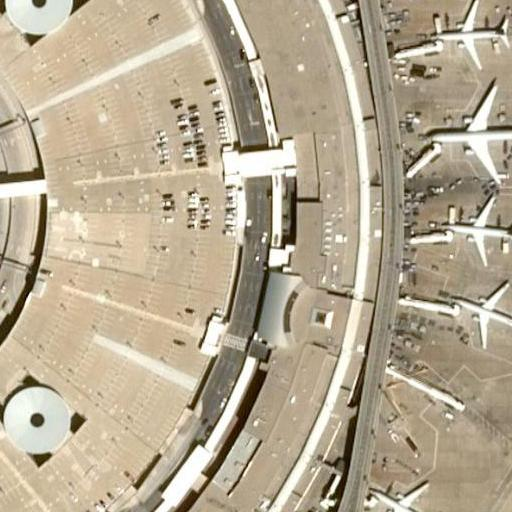Aircraft: (420, 76, 512, 180), (429, 189, 512, 271), (416, 0, 512, 69), (440, 278, 512, 346), (352, 473, 456, 512)
